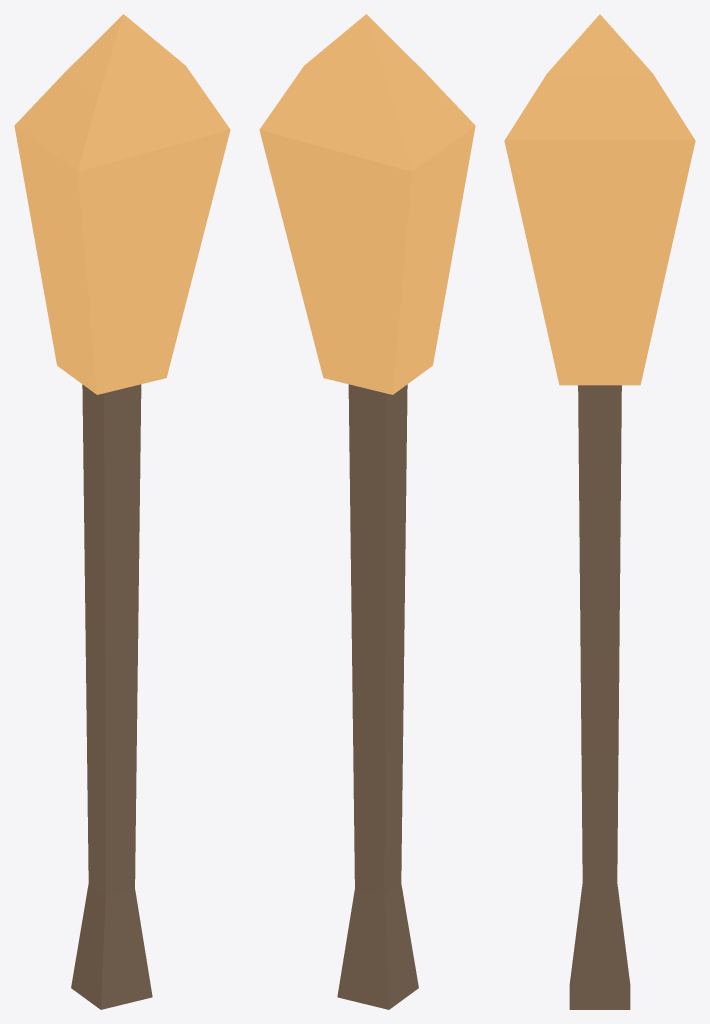
The model's file is broom.glb.
The picture shows the model from 3 angles, left to right: view 1: azimuth 30°, elevation 25°; view 2: azimuth 150°, elevation 25°; view 3: azimuth 270°, elevation 25°; orthographic projection.
Parts seen in each view (by area): view 1: Cube; view 2: Cube; view 3: Cube.
Part boxes in pixels (bbox=[...]): Cube: bbox=[14, 14, 230, 1009]; Cube: bbox=[259, 14, 475, 1009]; Cube: bbox=[504, 14, 695, 1009].
Bounding box in the file's own units: 1.17 × 7.94 × 1.39.
